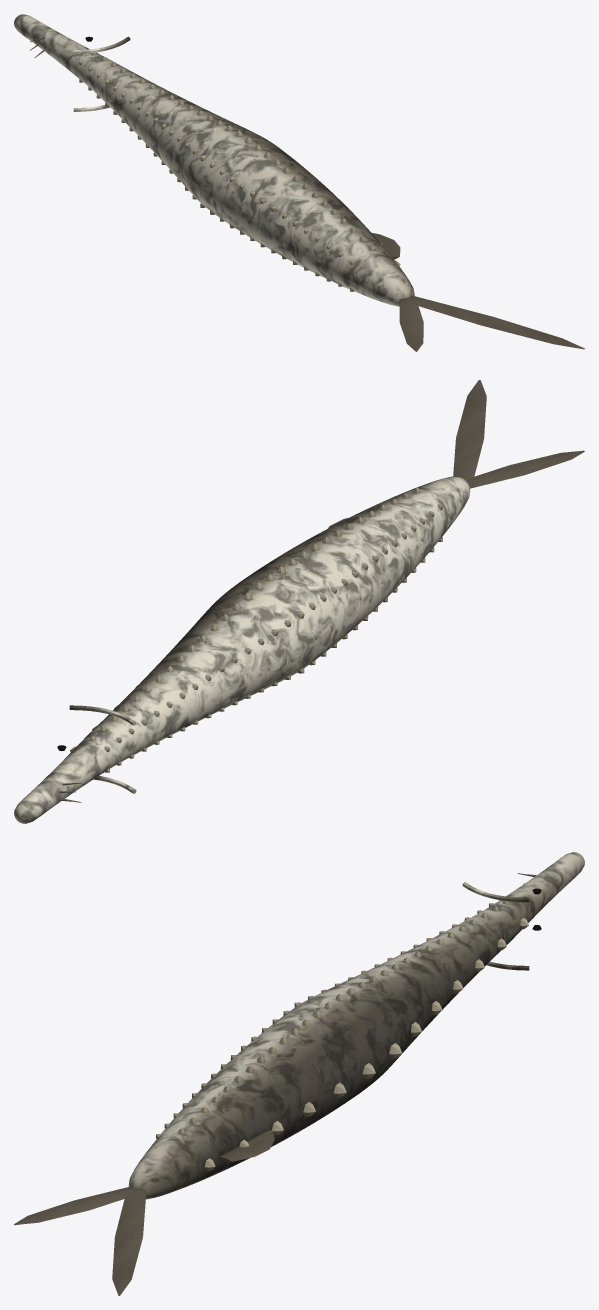
Rendered from fish_osetr.glb.
3 views of the same model, one above another, from view 1: azimuth 30°, elevation 25°; view 2: azimuth 150°, elevation 25°; view 3: azimuth 330°, elevation 25° (orthographic). The views are drawn at different scales.
Parts seen in each view (by area): view 1: fish_osetr; view 2: fish_osetr; view 3: fish_osetr.
Part boxes in pixels (x1,y1,x2,y2): fish_osetr: [14, 14, 584, 351]; fish_osetr: [14, 380, 584, 823]; fish_osetr: [14, 852, 584, 1295].
Bounding box in the file's own units: 0.2633 × 0.165 × 1.68.
1 material, 1 textured.
